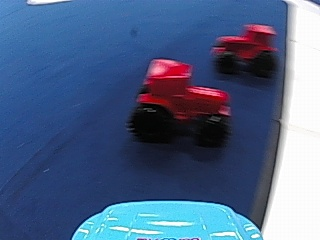tractor: (134, 54, 237, 148), (210, 21, 280, 78)
